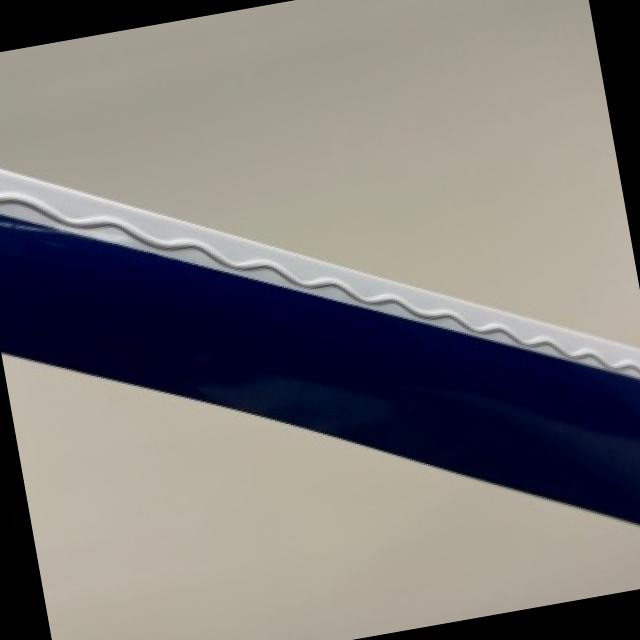healthy: (0, 168, 640, 519), (4, 356, 493, 640)
